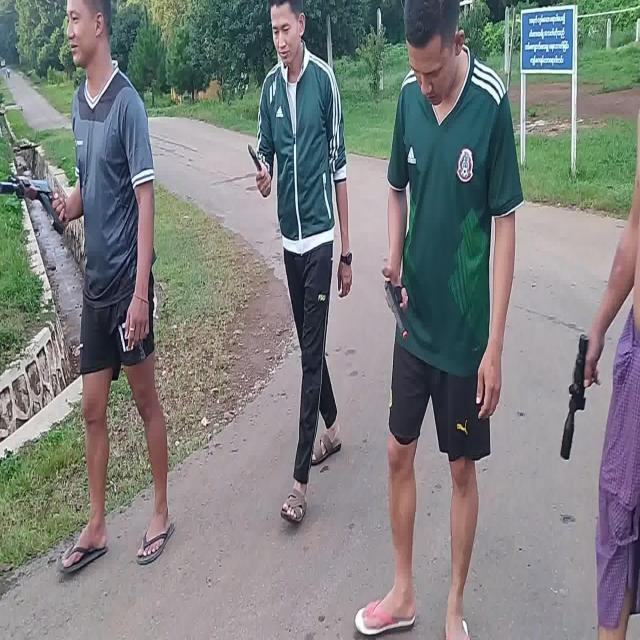gun: (1, 174, 63, 232), (384, 280, 406, 337)
